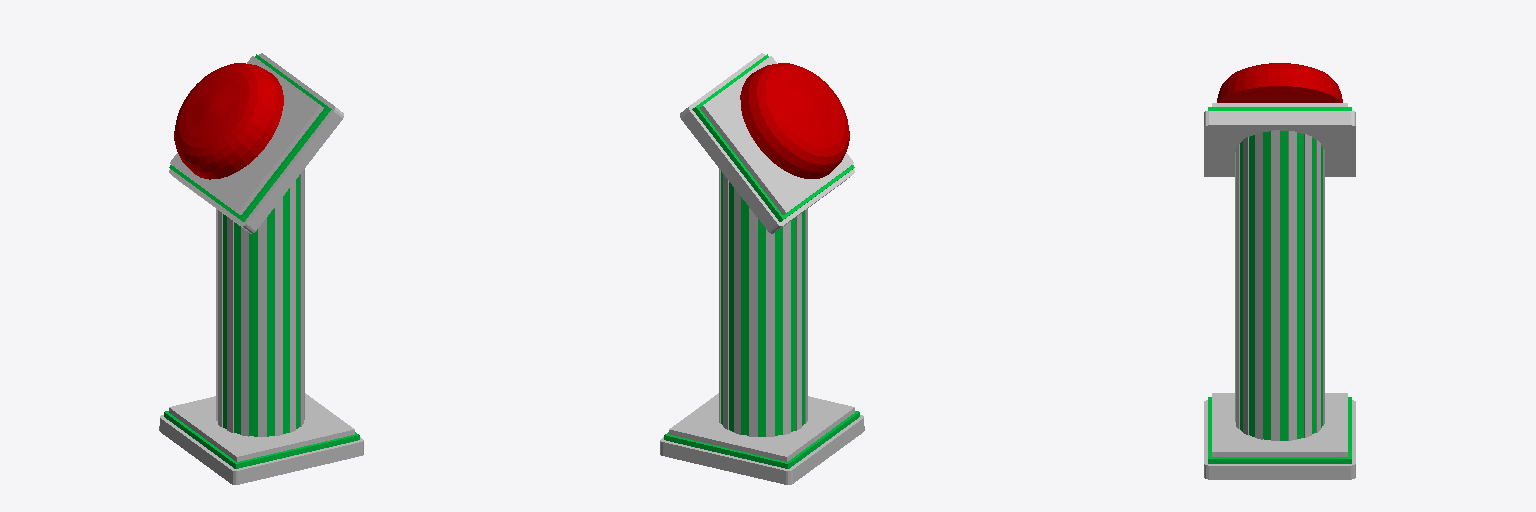
File: Buttonblend.obj
The picture shows the model from 3 angles: view 1: azimuth 30°, elevation 25°; view 2: azimuth 150°, elevation 25°; view 3: azimuth 270°, elevation 25°; orthographic projection.
Parts seen in each view (by area): view 1: Button.002; view 2: Button.002; view 3: Button.002.
Boxes of the visible parts, <box> form: Button.002: <box>159,53,363,484</box>; Button.002: <box>660,53,864,484</box>; Button.002: <box>1204,63,1355,479</box>.
Size of the model in its own units: 5.9 by 14.86 by 5.43.